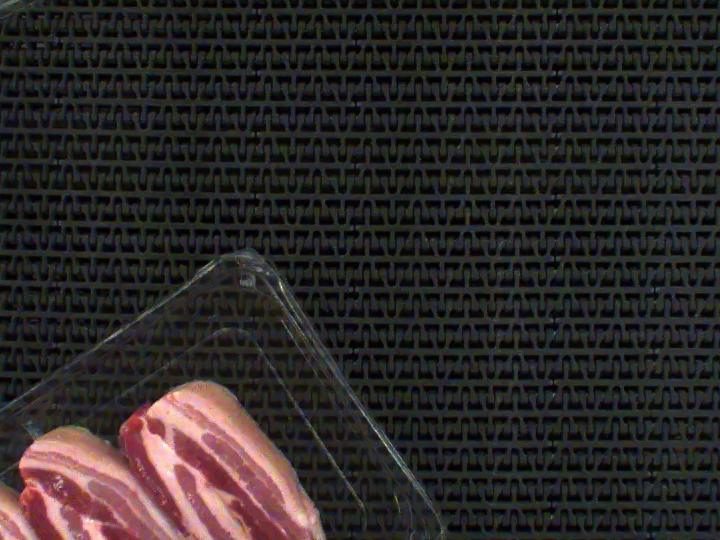packaging-error: (16, 404, 53, 444)
